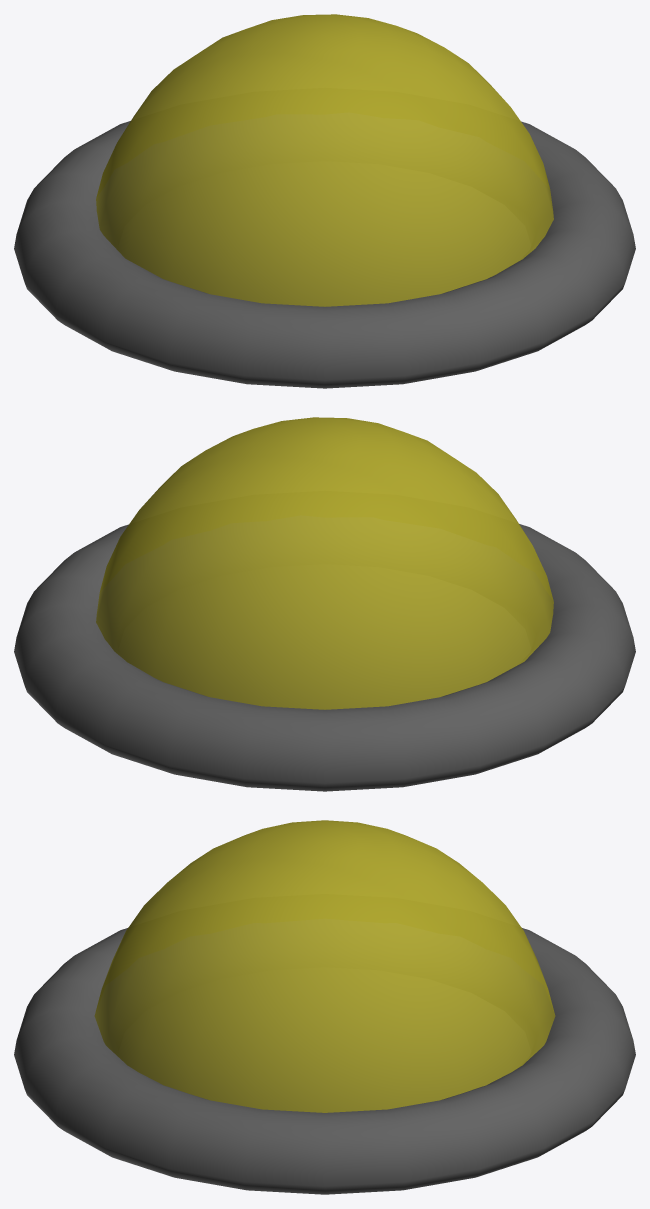
The model's file is Buzzlight_Year.fbx.
3 views of the same model, one above another, from view 1: azimuth 30°, elevation 25°; view 2: azimuth 150°, elevation 25°; view 3: azimuth 270°, elevation 25° (orthographic).
Visible parts, largest first — view 1: Light_Center, Light_Base; view 2: Light_Center, Light_Base; view 3: Light_Center, Light_Base.
Boxes of the visible parts, box(x1,y1,x2,y2) form: Light_Center: box(96, 14, 553, 306); Light_Base: box(14, 121, 635, 388); Light_Center: box(96, 417, 553, 709); Light_Base: box(14, 524, 635, 791); Light_Center: box(94, 820, 555, 1112); Light_Base: box(14, 928, 635, 1194).
Bounding box in the file's own units: 2.4 × 1.13 × 2.4.
